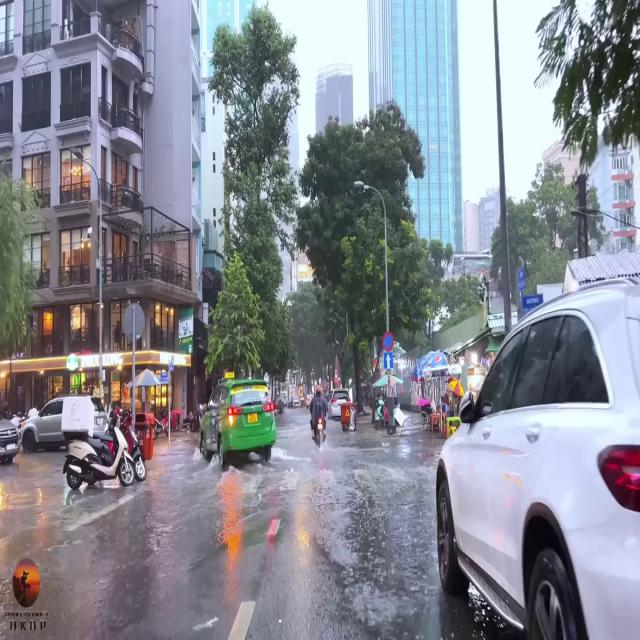bien_vang: (248, 411, 258, 423)
